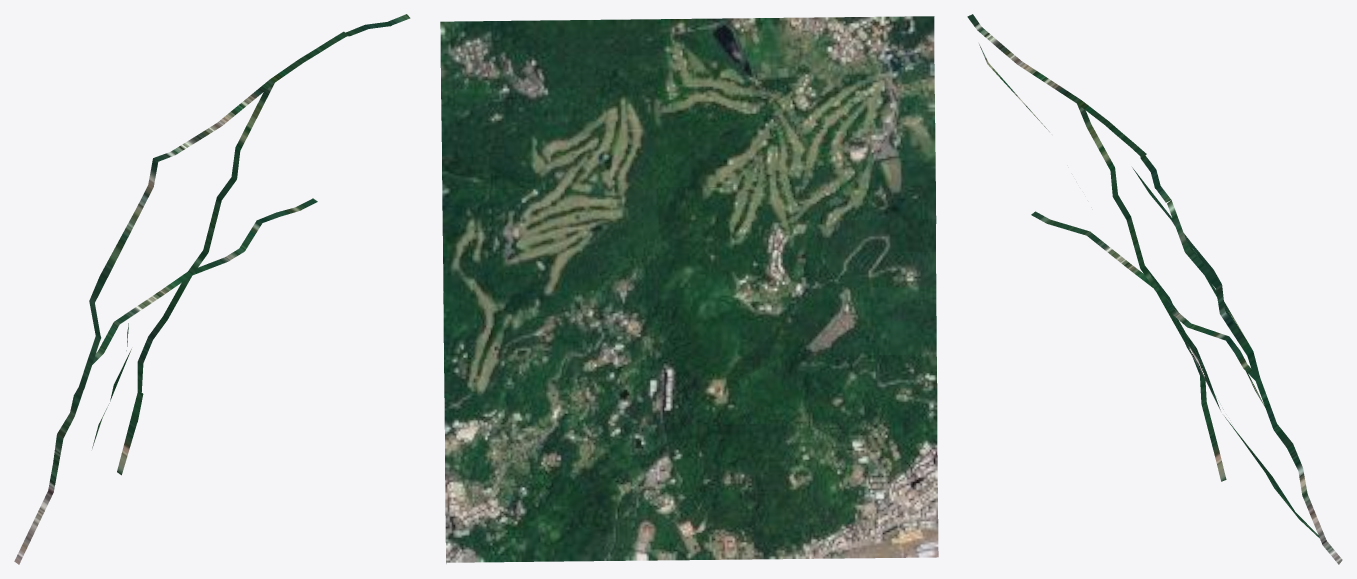
The picture shows the model from 3 angles, left to right: view 1: azimuth 30°, elevation 25°; view 2: azimuth 150°, elevation 25°; view 3: azimuth 270°, elevation 25°; orthographic projection. The views are drawn at different scales.
Size of the model in its own units: 2408 by 2344 by 1870.
Materials: 1 (1 with a texture image).
